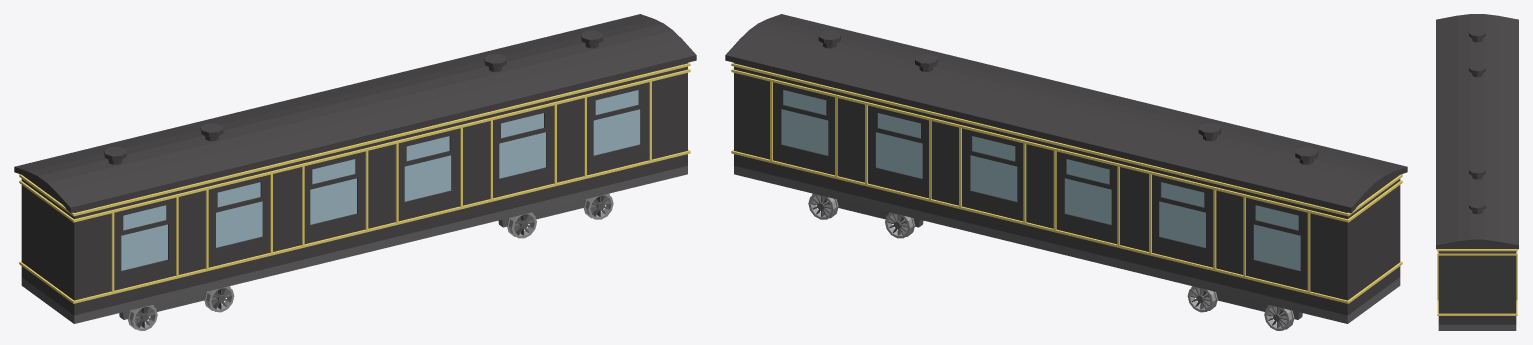
The model's file is Toy_Passenger_coach.fbx.
3 renders of one model, left to right at view 1: azimuth 30°, elevation 25°; view 2: azimuth 150°, elevation 25°; view 3: azimuth 270°, elevation 25°, orthographic. The views are drawn at different scales.
Visible parts, largest first — view 1: Toy_Passenger_coach; view 2: Toy_Passenger_coach; view 3: Toy_Passenger_coach.
Boxes of the visible parts, x1,y1,x2,y2 form: Toy_Passenger_coach: (14,14,696,330); Toy_Passenger_coach: (725,14,1407,330); Toy_Passenger_coach: (1436,14,1518,330).
Size of the model in its own units: 61.1 by 9.49 by 15.56.
